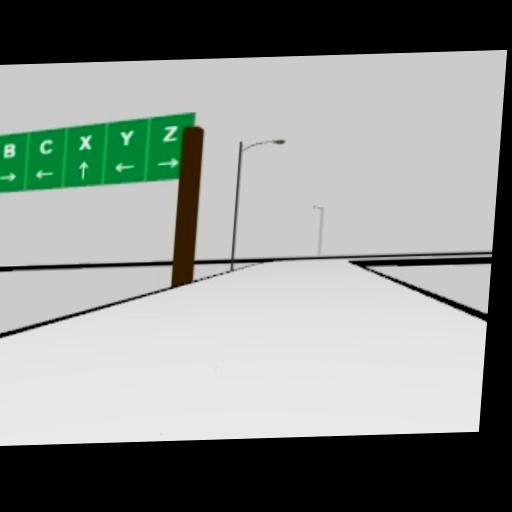B: (1, 142, 15, 159)
C: (39, 138, 53, 155)
Left: (113, 161, 135, 173), (34, 168, 54, 179)
Right: (156, 157, 179, 169), (0, 171, 16, 182)
Straight: (77, 160, 89, 181)
X: (78, 133, 92, 149)
Y: (117, 129, 134, 145)
Z: (161, 124, 178, 141)
